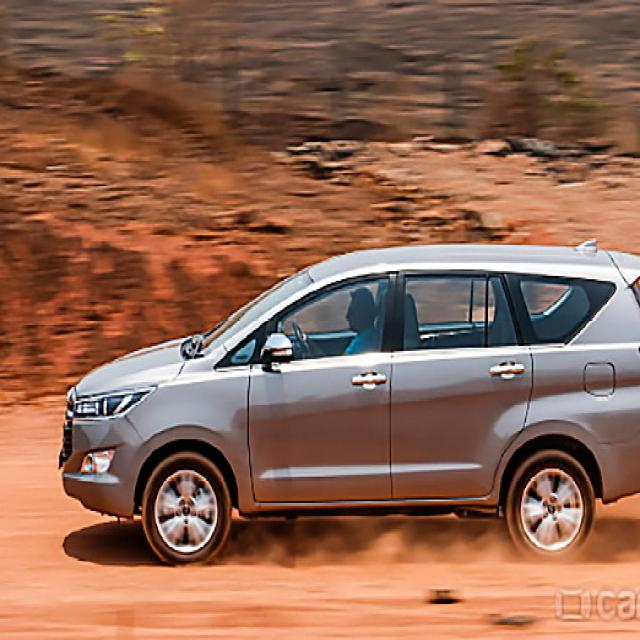light_vehicle: (56, 241, 639, 567)
